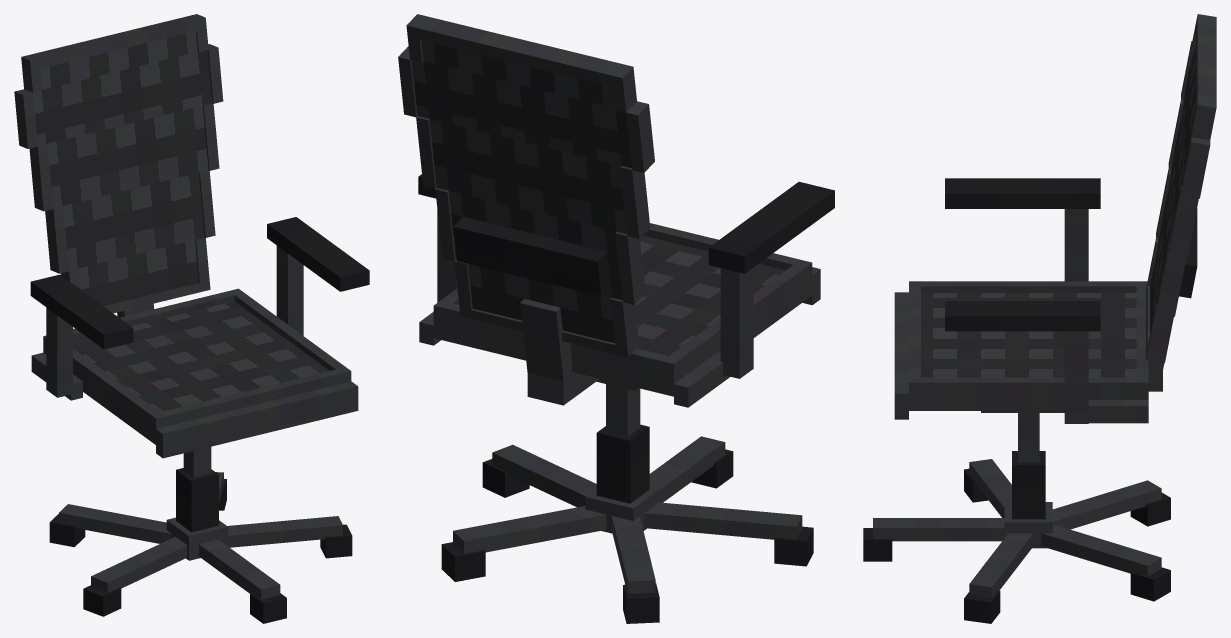
The model's file is aeron.glb.
3 renders of one model, left to right at view 1: azimuth 30°, elevation 25°; view 2: azimuth 150°, elevation 25°; view 3: azimuth 270°, elevation 25°, orthographic. The views are drawn at different scales.
Parts seen in each view (by area): view 1: back, seat_mesh, leg (×4), arm_pad (×2), seat_front_edge, back_rail (×7), arm_post (×2), caster (×4), back_frame_top, gas_sleeve, seat_rim_front, seat_rim_right (+6 smaller); view 2: back, leg (×5), seat_mesh, back_rail (×8), lumbar_pad, back_frame_top, caster (×5), arm_pad, arm_post (×2), gas_sleeve, spine_upper, seat_rim_left (+7 smaller); view 3: seat_mesh, leg (×5), arm_pad (×2), back, arm_post (×2), caster (×4), back_rail (×4), seat_rim_left, seat_rim_right, back_frame_top, gas_sleeve, seat_front_edge (+6 smaller).
Boxes of the visible parts, x1,y1,x2,y2 form: back: [15, 31, 216, 306]; seat_mesh: [43, 301, 351, 444]; leg (×4): [59, 504, 342, 599]; arm_pad (×2): [30, 217, 369, 349]; seat_front_edge: [156, 381, 358, 458]; back_rail (×7): [14, 44, 223, 283]; arm_post (×2): [46, 245, 303, 397]; caster (×4): [49, 514, 352, 623]; back_frame_top: [21, 14, 206, 71]; gas_sleeve: [176, 468, 218, 532]; seat_rim_front: [160, 369, 341, 422]; seat_rim_right: [229, 288, 351, 379]; back: [400, 40, 653, 345]; leg (×5): [453, 436, 802, 593]; seat_mesh: [433, 235, 812, 396]; back_rail (×8): [398, 46, 654, 347]; lumbar_pad: [453, 216, 610, 296]; back_frame_top: [406, 14, 634, 89]; caster (×5): [441, 449, 813, 623]; arm_pad: [708, 181, 834, 273]; arm_post (×2): [437, 210, 753, 378]; gas_sleeve: [596, 424, 649, 503]; spine_upper: [520, 299, 573, 382]; seat_rim_left: [662, 259, 812, 371]; seat_mesh: [909, 293, 1148, 410]; leg (×5): [873, 459, 1161, 597]; arm_pad (×2): [945, 178, 1100, 331]; back: [1150, 43, 1211, 353]; arm_post (×2): [1064, 209, 1088, 423]; caster (×4): [863, 492, 1170, 623]; back_rail (×4): [1147, 137, 1210, 354]; seat_rim_left: [909, 281, 1147, 292]; seat_rim_right: [909, 377, 1148, 388]; back_frame_top: [1195, 14, 1216, 118]; gas_sleeve: [1012, 451, 1045, 519]; seat_front_edge: [894, 292, 908, 419].
Size of the model in its own units: 0.85 by 1.43 by 0.921.
Materials: 1 (1 with a texture image).
